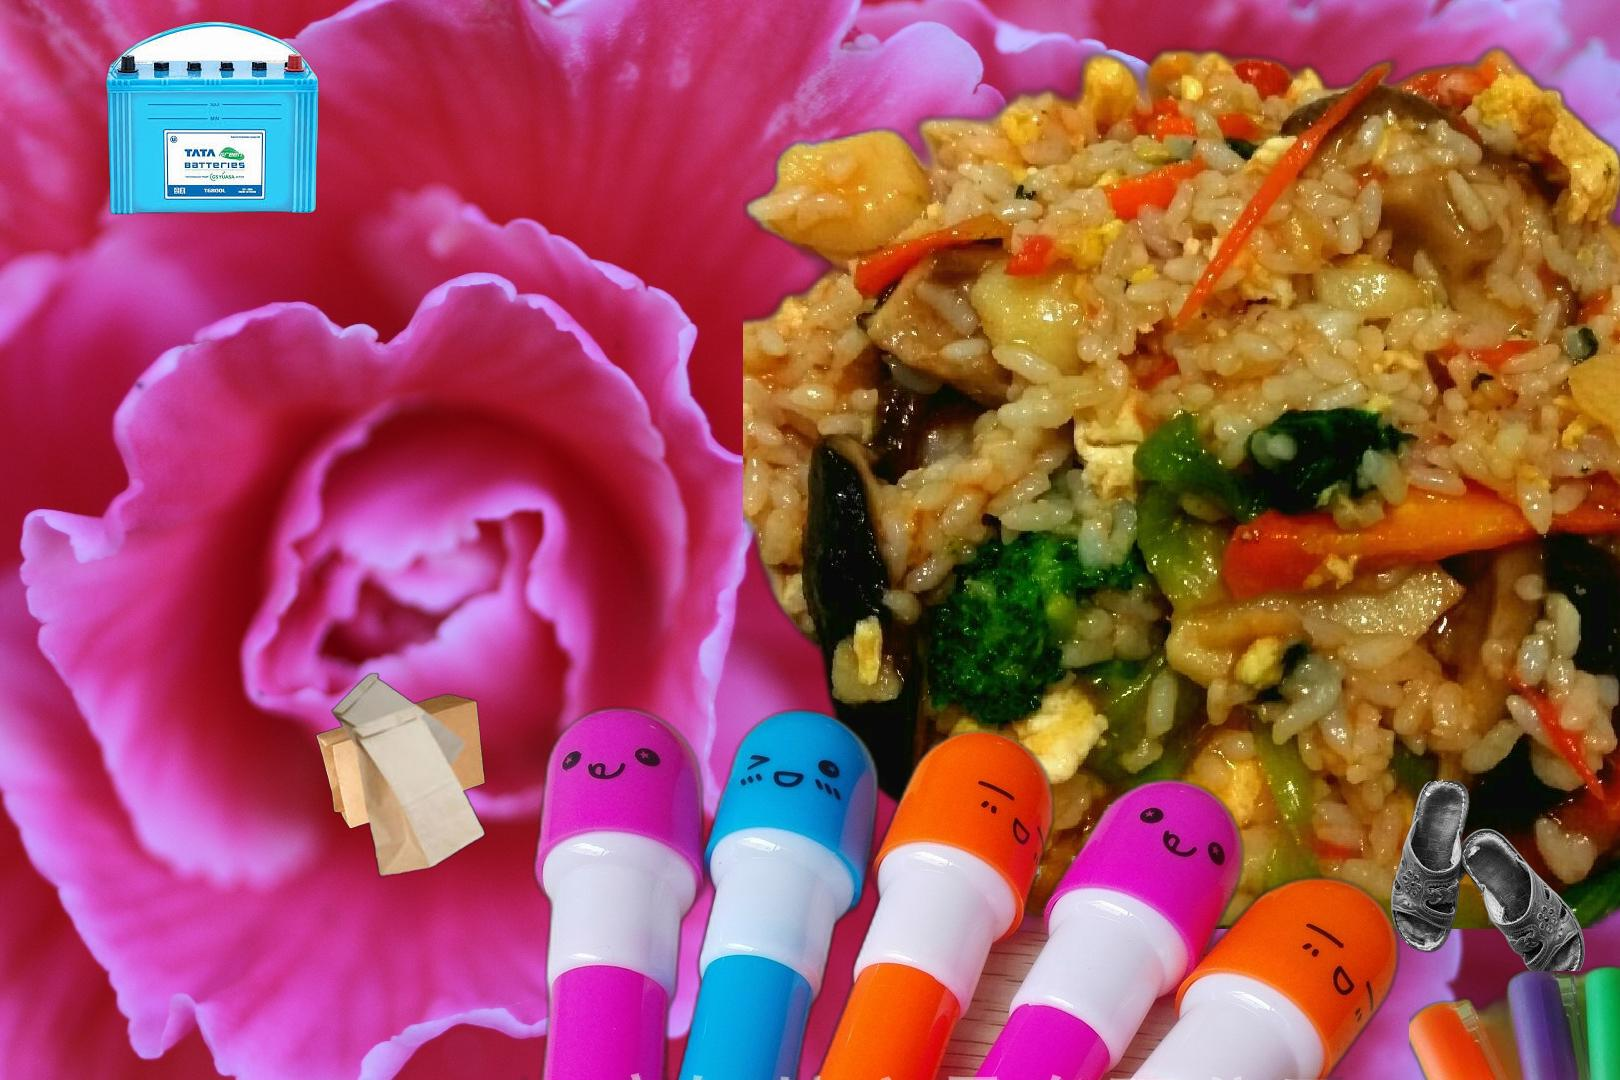battery: (102, 19, 322, 217)
biological: (742, 37, 1620, 929)
paper-bag: (313, 670, 487, 882), (1016, 582, 1191, 742)
penholder: (509, 700, 1407, 1080), (1409, 953, 1620, 1080)
shoes: (1389, 781, 1620, 972)
